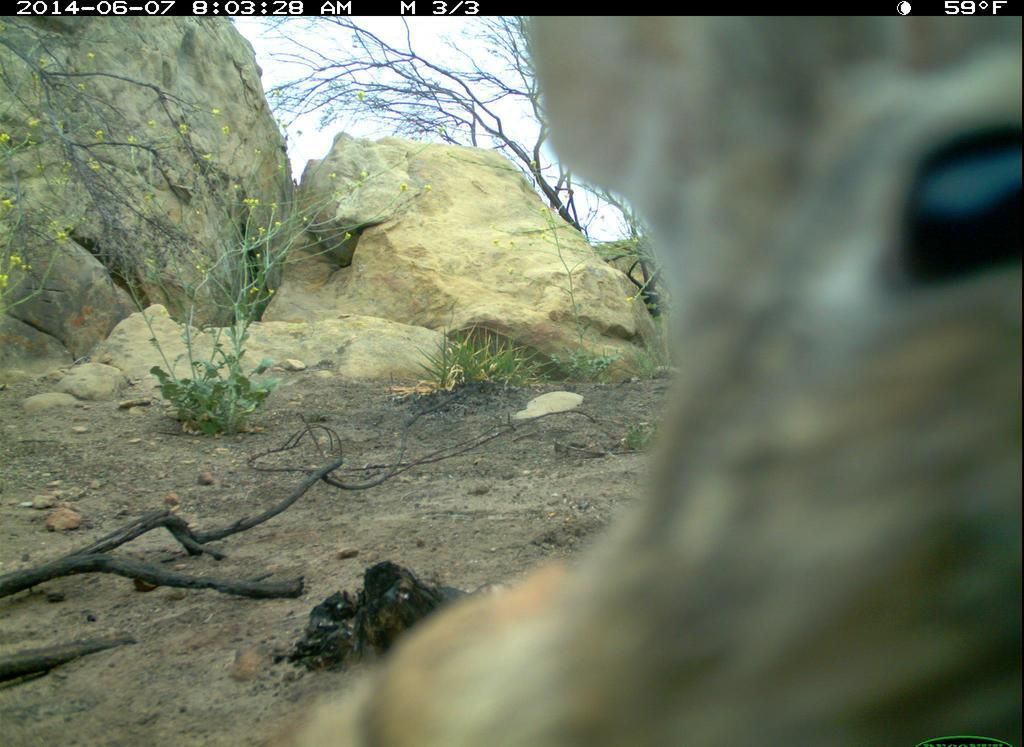rabbit: (264, 9, 1024, 747)
